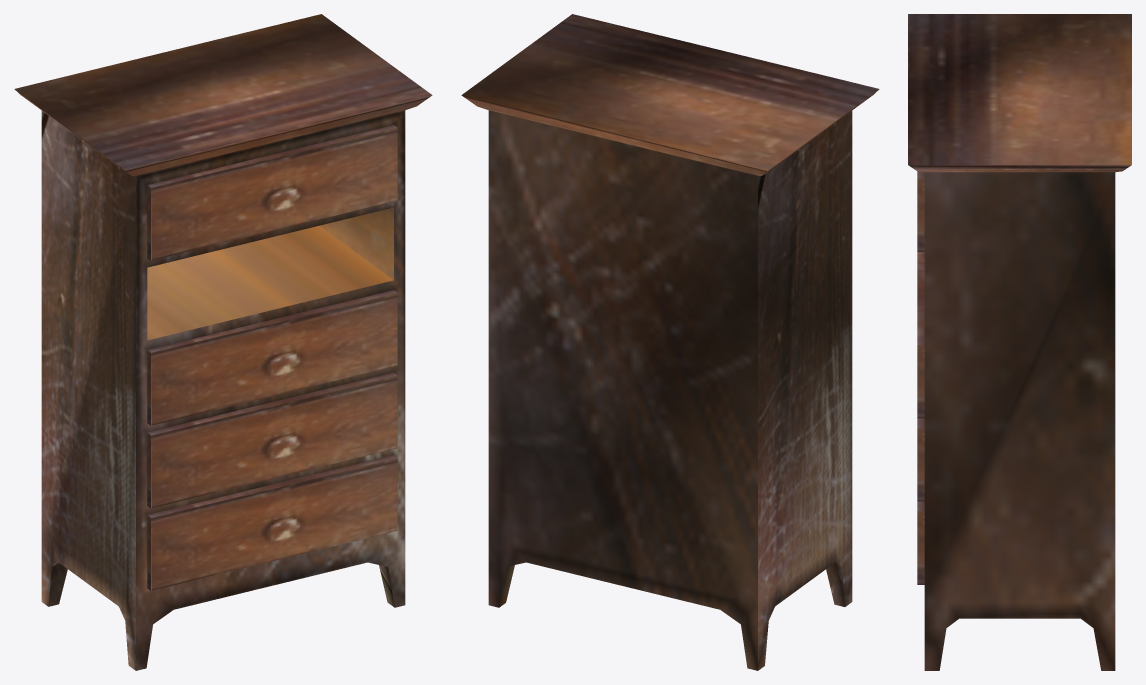
The model's file is drawer.FBX.
3 renders of one model, left to right at view 1: azimuth 30°, elevation 25°; view 2: azimuth 150°, elevation 25°; view 3: azimuth 270°, elevation 25°, orthographic.
Parts seen in each view (by area): view 1: drawer; view 2: drawer; view 3: drawer.
Part boxes in pixels (box(x1,y1,x2,y2)): drawer: box(14, 14, 432, 670); drawer: box(461, 14, 879, 670); drawer: box(908, 14, 1131, 670).
Bounding box in the file's own units: 68.13 × 108 × 42.66.
